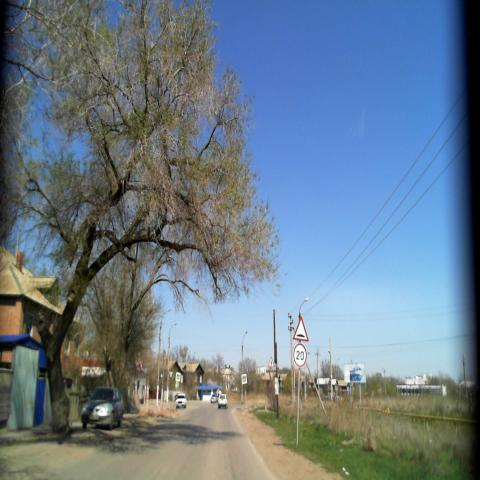1_17: (292, 316, 308, 342)
